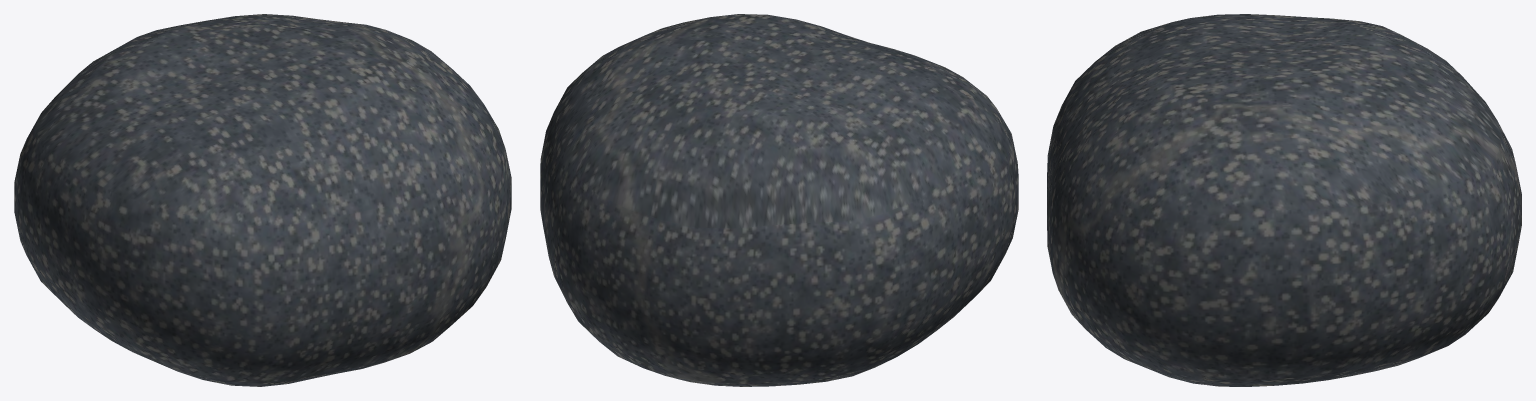
Rendered from plunge_boulder_05.glb.
3 views of the same model, side by side, from view 1: azimuth 30°, elevation 25°; view 2: azimuth 150°, elevation 25°; view 3: azimuth 270°, elevation 25° (orthographic). The views are drawn at different scales.
Parts seen in each view (by area): view 1: plunge_boulder_05; view 2: plunge_boulder_05; view 3: plunge_boulder_05.
Part boxes in pixels (x1,y1,x2,y2): plunge_boulder_05: (14, 14, 511, 386); plunge_boulder_05: (540, 14, 1018, 386); plunge_boulder_05: (1047, 14, 1521, 386).
Size of the model in its own units: 0.0723 by 0.0489 by 0.0707.
1 material, 1 textured.
